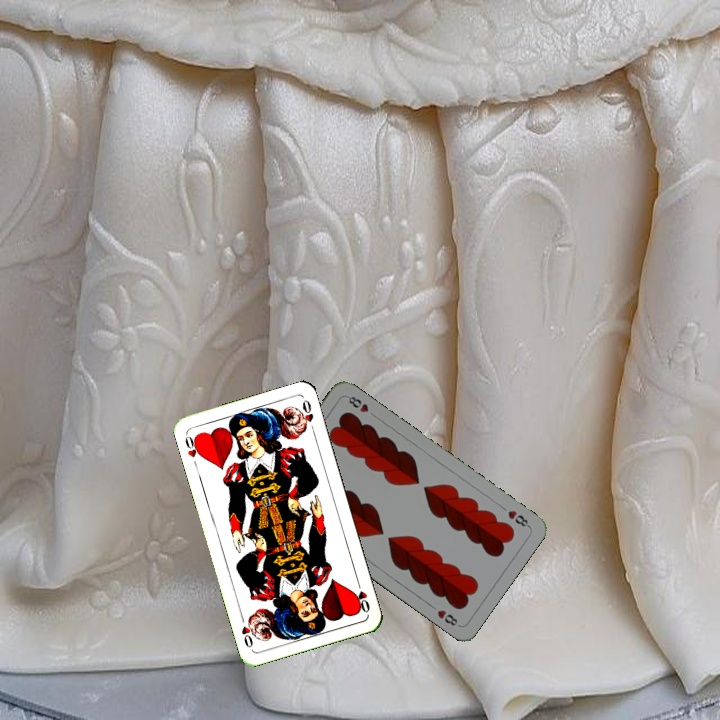H8: (504, 506, 532, 530)
HO: (350, 576, 372, 616), (181, 430, 204, 460)
